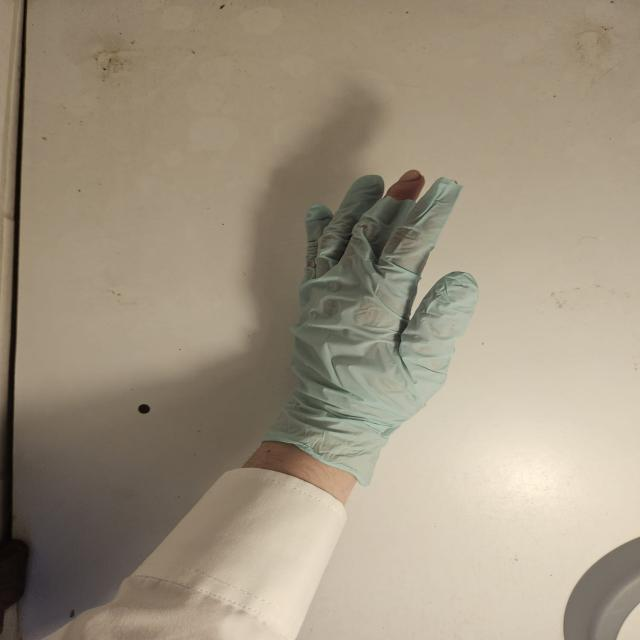gloves_damaged: (256, 167, 483, 486)
